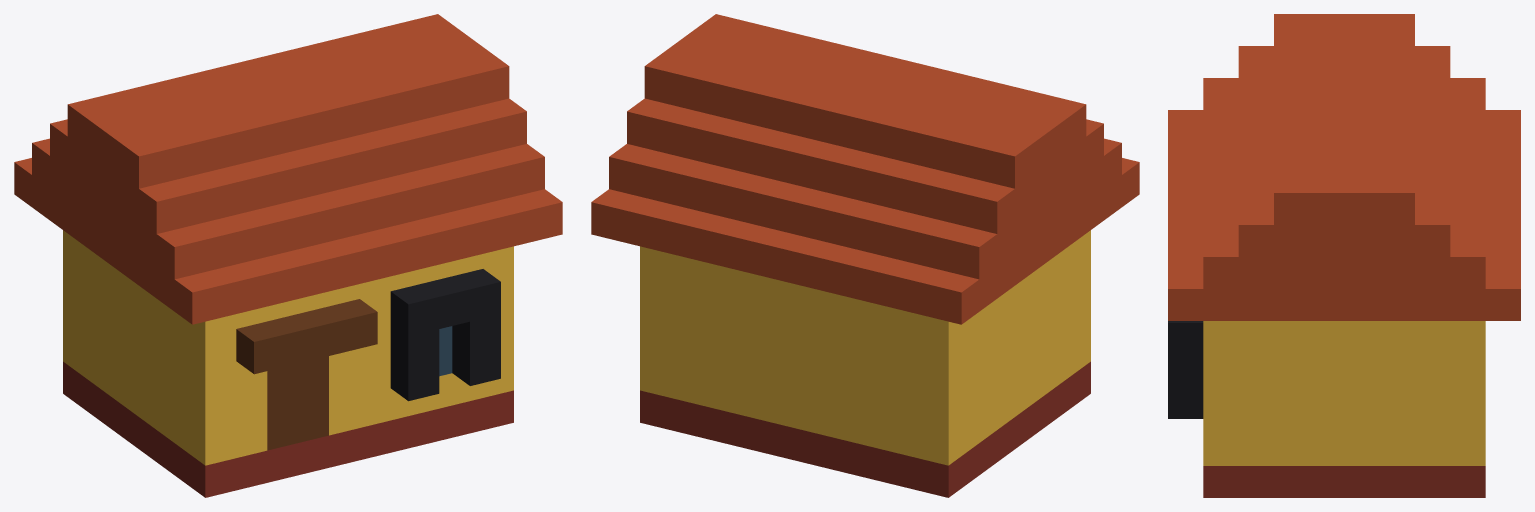
Rendered from chapin_casita.obj.
The picture shows the model from 3 angles, left to right: view 1: azimuth 30°, elevation 25°; view 2: azimuth 150°, elevation 25°; view 3: azimuth 270°, elevation 25°; orthographic projection.
Parts seen in each view (by area): view 1: techo, pared, zocalo, reja, balcon, puerta, ventana; view 2: techo, pared, zocalo; view 3: techo, pared, zocalo, reja.
Part boxes in pixels (x1,y1,x2,y2): techo: (14,14,562,324); pared: (63,230,513,465); zocalo: (63,361,513,497); reja: (390,269,500,401); balcon: (236,299,377,374); puerta: (267,356,328,450); ventana: (439,326,452,376); techo: (591,14,1139,324); pared: (640,230,1090,465); zocalo: (640,361,1090,497); techo: (1168,14,1520,320); pared: (1203,321,1485,465); zocalo: (1203,466,1485,497); reja: (1168,321,1203,418).
Bounding box in the file's own units: 0.6 × 0.5 × 0.5.
